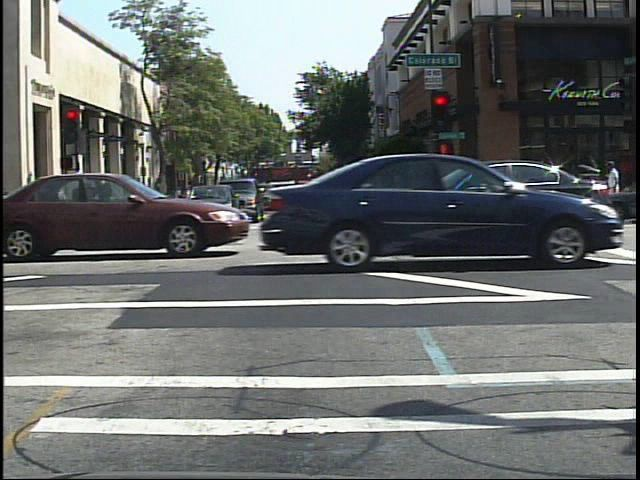person: (601, 156, 627, 221)
